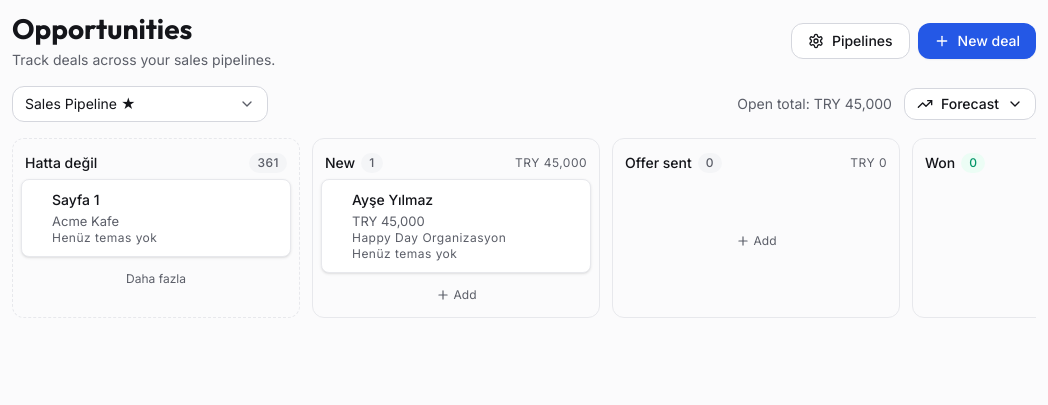
Test case: OpportunitiesPage — the board is a view of person-cards › brings the rest of the column only when asked, and appends it
The width and height of the screenshot is (1048, 405).
Expected: the text "Sayfa 1" is shown, [52,191,100,208]
Expected: the text "Sayfa 2" is not shown
Click the button "Daha fazla": (156, 279) [21,265,291,293]
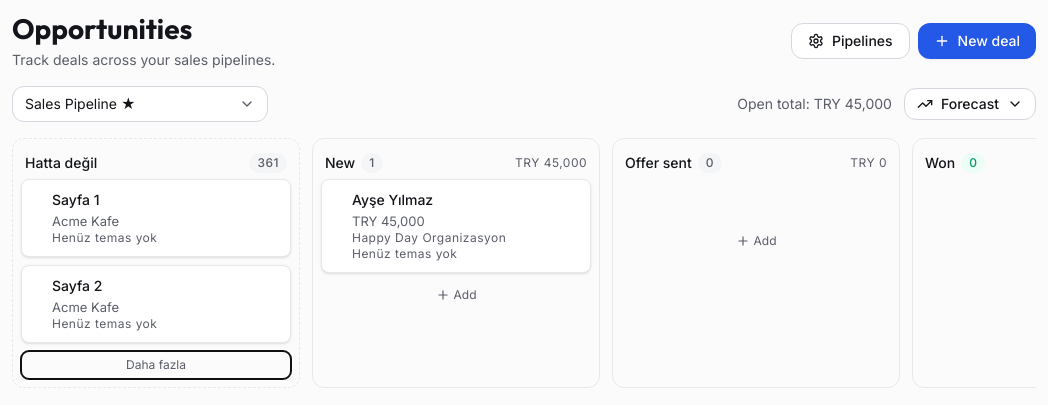
Expected: the text "Sayfa 1" is shown, [52,191,100,208]
Expected: the text "Sayfa 2" is shown, [52,277,102,294]
